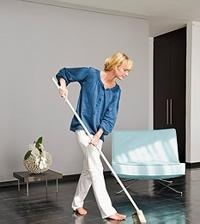person without safety: (57, 47, 132, 221)
